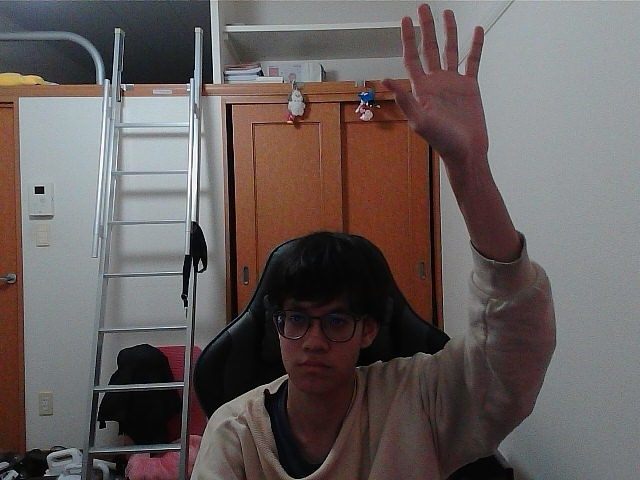open_palm: (395, 11, 479, 146)
